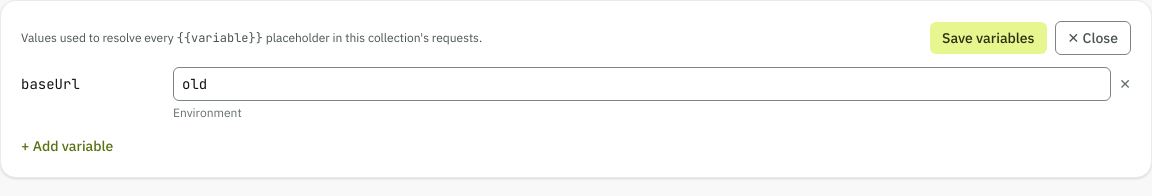
Test case: VariablePanel › marks a value changed in this session once edited, and the marker is absent before editing
The image size is (1152, 196).
Replace the text in the field named "Value for baseUrl" with "new-value" at (642, 84), box [173,67,1111,101]
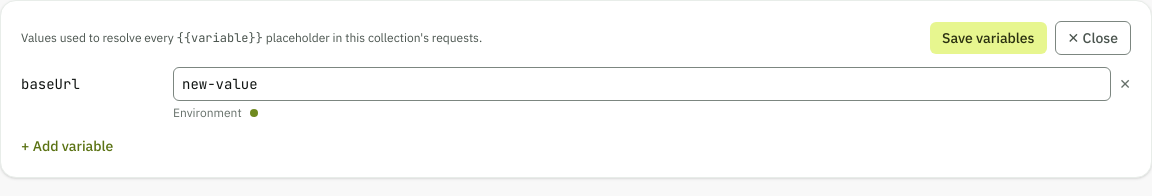
Expected: the element named "Changed in this session" is shown, [250,109,258,117]
